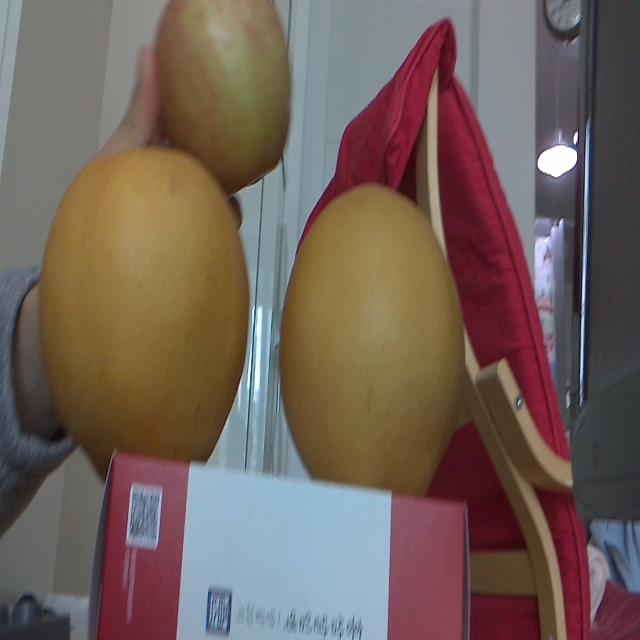apple: (152, 0, 292, 201)
pear: (40, 147, 253, 473), (280, 185, 464, 504)
